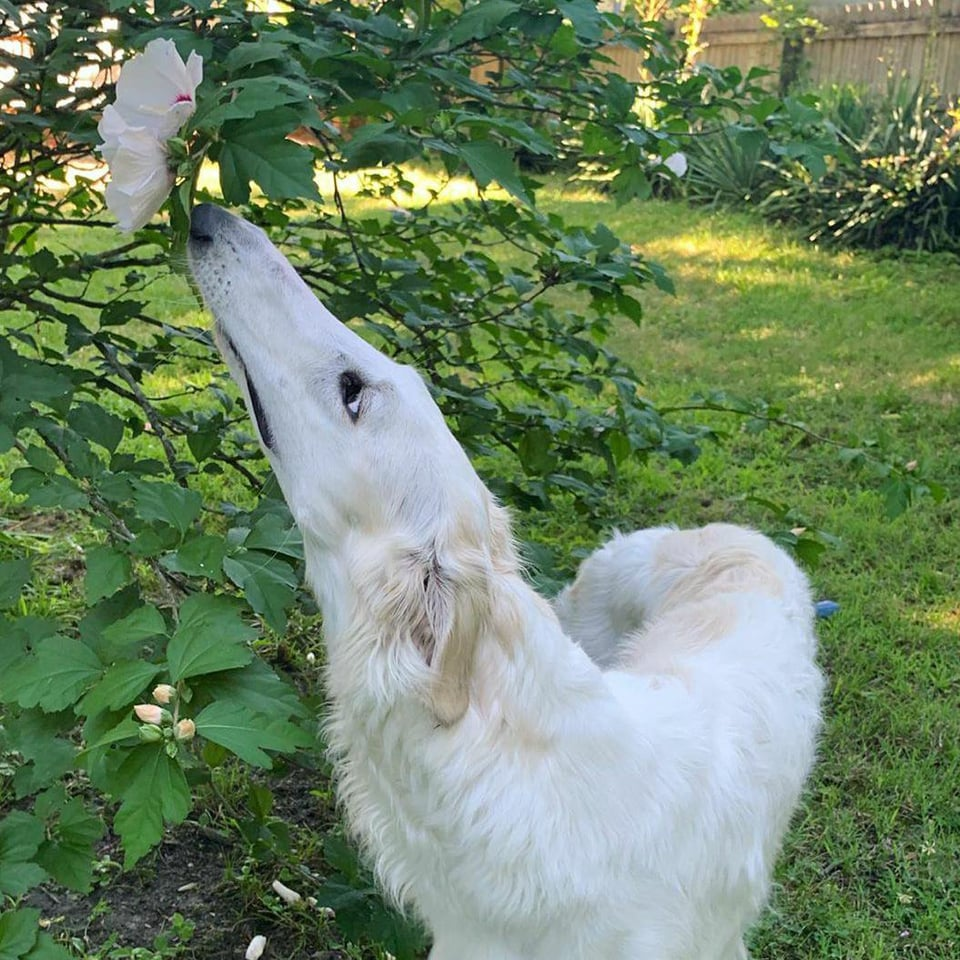borzoi: (170, 179, 826, 960)
